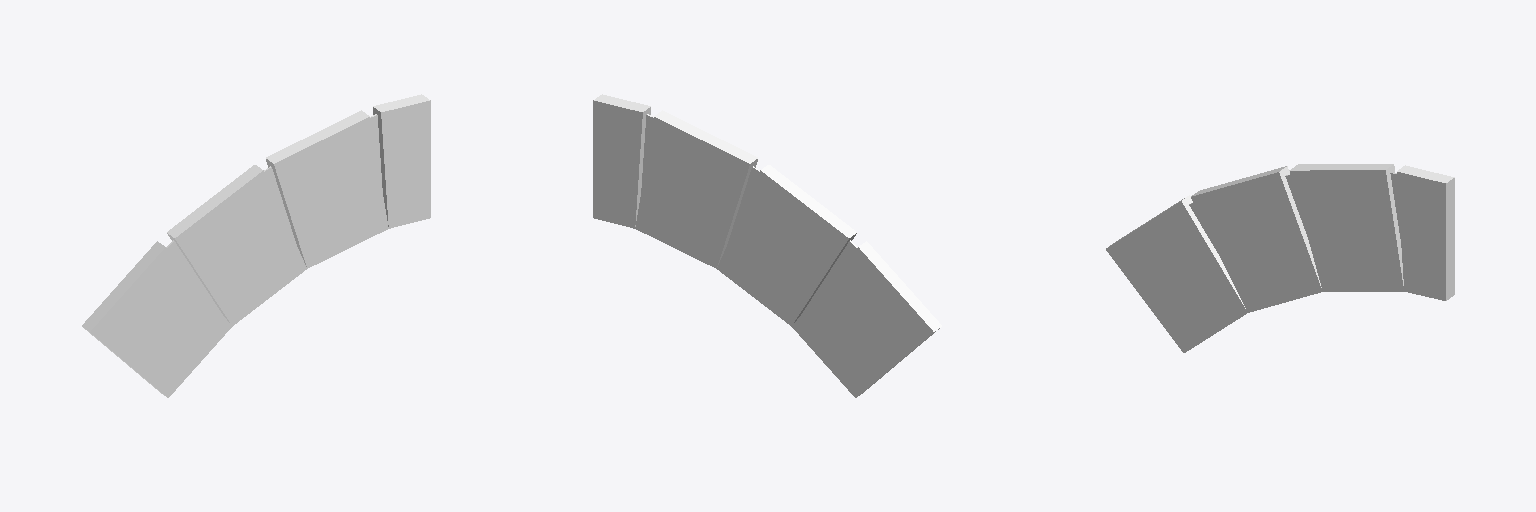
The model's file is generic_facade_segmental_arch_2_left_bottom.obj.
3 renders of one model, left to right at view 1: azimuth 30°, elevation 25°; view 2: azimuth 150°, elevation 25°; view 3: azimuth 330°, elevation 25°, orthographic.
Parts seen in each view (by area): view 1: arch_2_right, arch_2_right_inner; view 2: arch_2_right, arch_2_right_inner; view 3: arch_2_right, arch_2_right_inner.
Part boxes in pixels (left/top/right/bottom): arch_2_right: left=82, top=94, right=430, bottom=397; arch_2_right_inner: left=166, top=114, right=382, bottom=314; arch_2_right: left=593, top=94, right=941, bottom=397; arch_2_right_inner: left=641, top=114, right=857, bottom=314; arch_2_right: left=1106, top=164, right=1454, bottom=352; arch_2_right_inner: left=1189, top=173, right=1400, bottom=255.
Bounding box in the file's own units: 1.31 × 0.8607 × 0.0562.